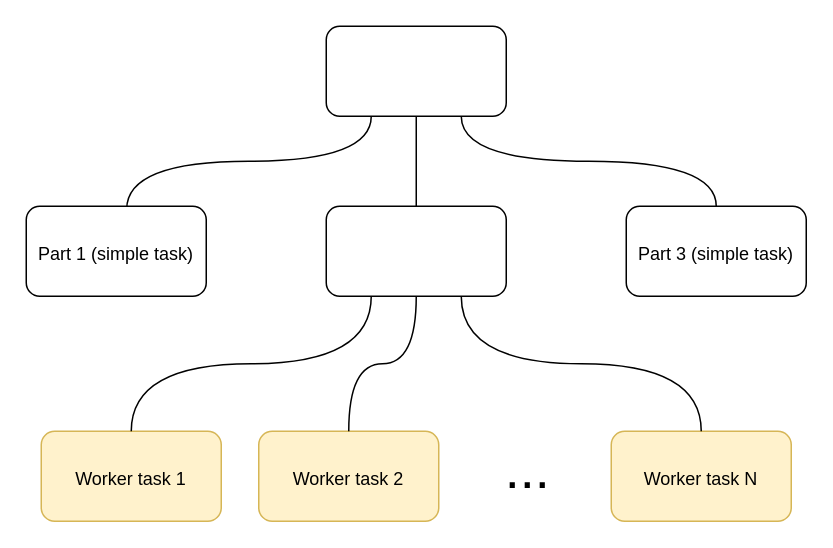
Image size: 833x548. Some labels were removed from this diagram. The shapes that lost their labels are listed below. From the top down, each one's centre as x and y in pixels, then its label:
At (x=415, y=70): "Partitioned master task".
At (x=415, y=250): "Part 2 (coordinator task)".
